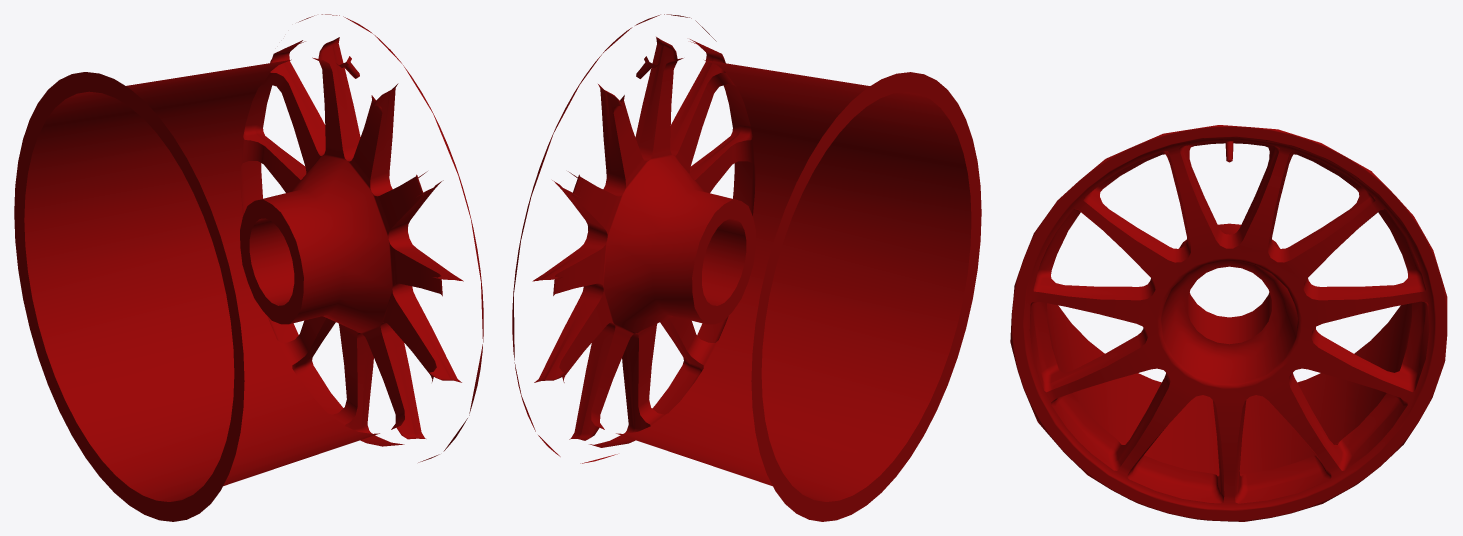
The model's file is lamborghini_huracan_st_rim_lf_Lod1.gltf.
3 renders of one model, left to right at view 1: azimuth 30°, elevation 25°; view 2: azimuth 150°, elevation 25°; view 3: azimuth 270°, elevation 25°, orthographic. The views are drawn at different scales.
Parts seen in each view (by area): view 1: lamborghini_huracan_st_rim_lf_Lod1; view 2: lamborghini_huracan_st_rim_lf_Lod1; view 3: lamborghini_huracan_st_rim_lf_Lod1.
Boxes of the visible parts, <box> form: lamborghini_huracan_st_rim_lf_Lod1: <box>14,14,483,521</box>; lamborghini_huracan_st_rim_lf_Lod1: <box>512,14,981,521</box>; lamborghini_huracan_st_rim_lf_Lod1: <box>1010,125,1447,521</box>.
Size of the model in its own units: 0.2994 by 0.4977 by 0.4977.
